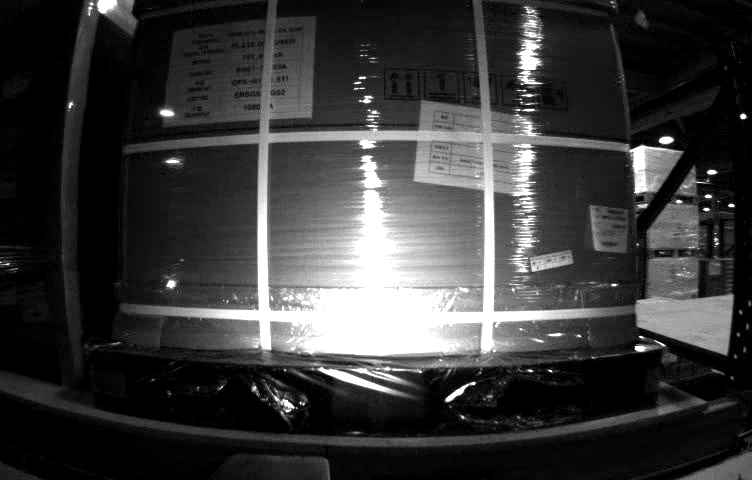True Barcode: (589, 203, 633, 255)
